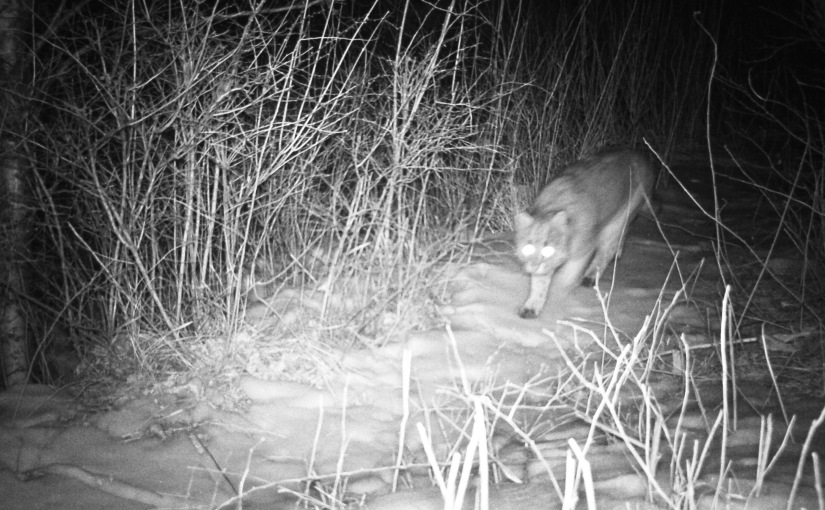amur_leopard: (491, 137, 718, 336)
